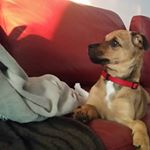puppy: (70, 26, 150, 146)
